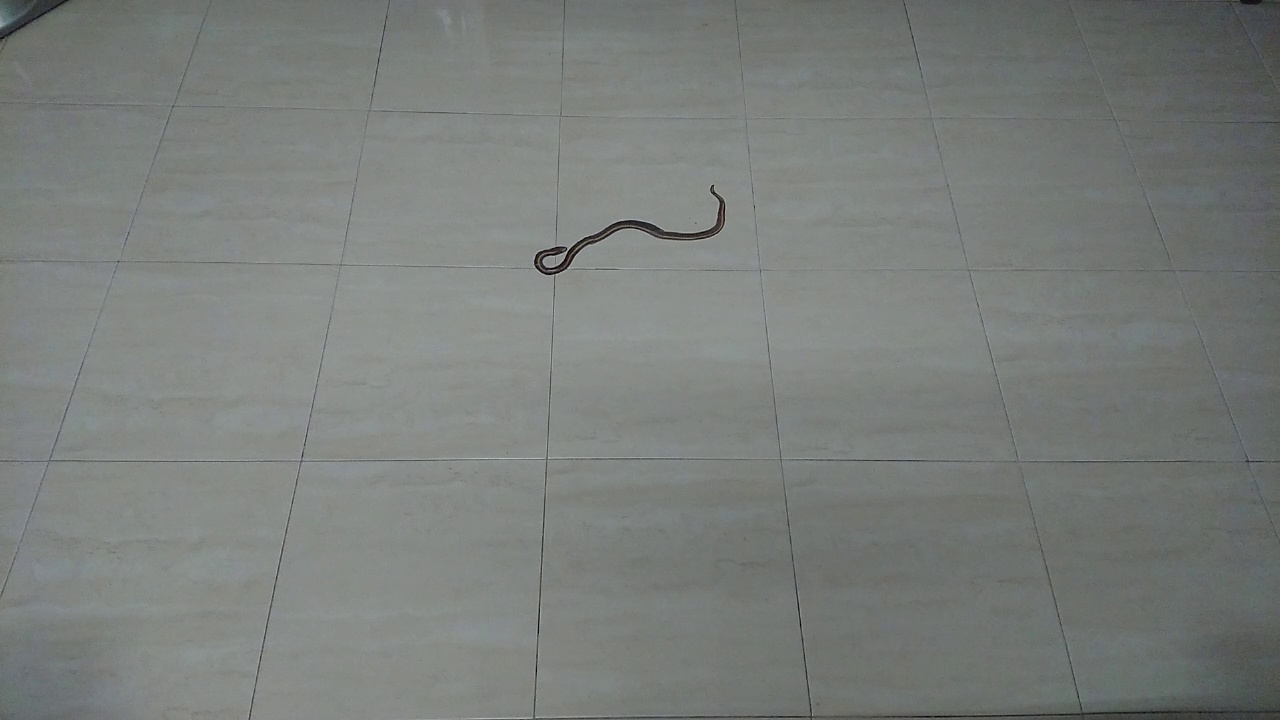snake: (522, 168, 739, 283)
